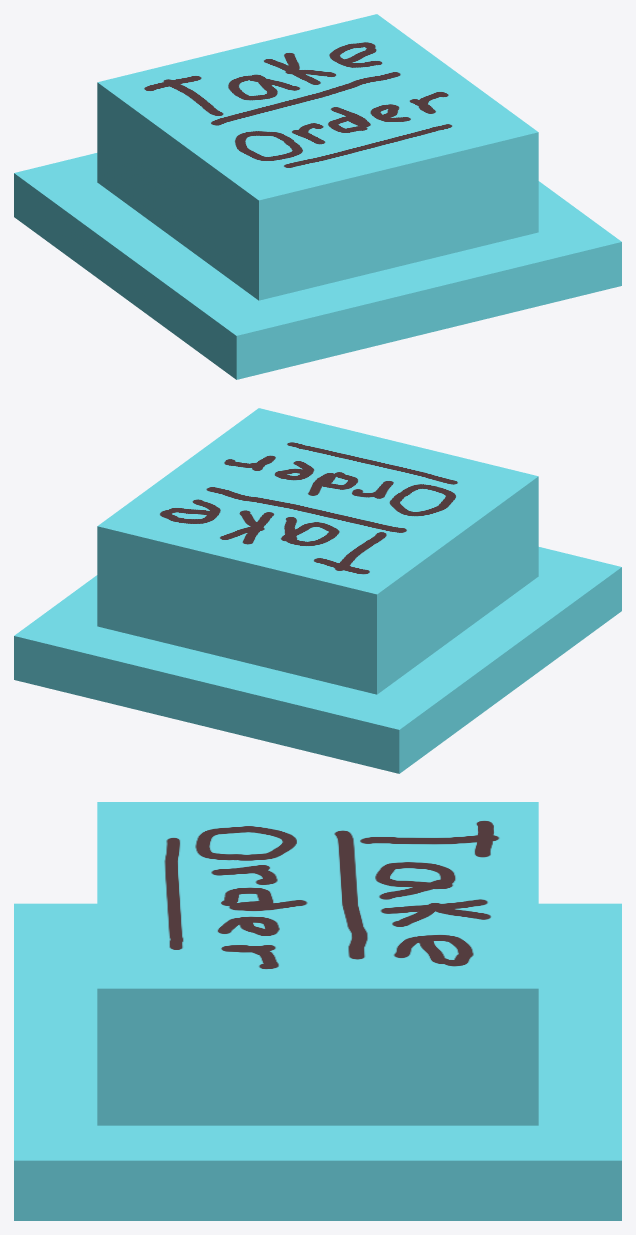
Rendered from Button.fbx.
The picture shows the model from 3 angles, top to bottom: view 1: azimuth 30°, elevation 25°; view 2: azimuth 150°, elevation 25°; view 3: azimuth 270°, elevation 25°; orthographic projection. The views are drawn at different scales.
Visible parts, largest first — view 1: Button; view 2: Button; view 3: Button.
Part boxes in pixels (x1,y1,x2,y2): Button: (14,14,621,379); Button: (14,408,621,773); Button: (14,802,621,1220).
Bounding box in the file's own units: 99.64 × 35.63 × 99.64.
Materials: 1 (1 with a texture image).
